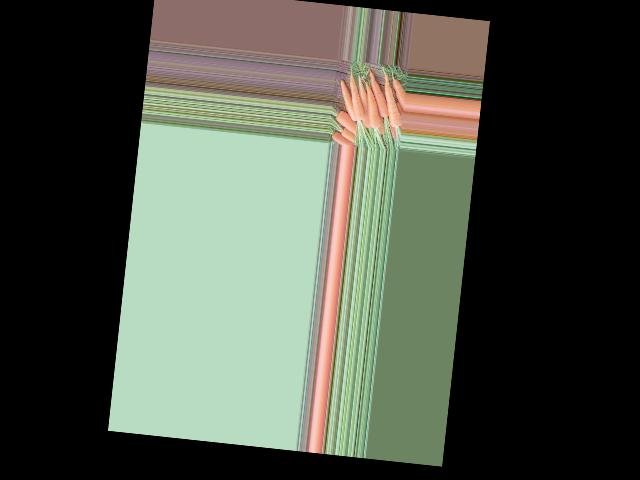carrot: (382, 69, 407, 133)
